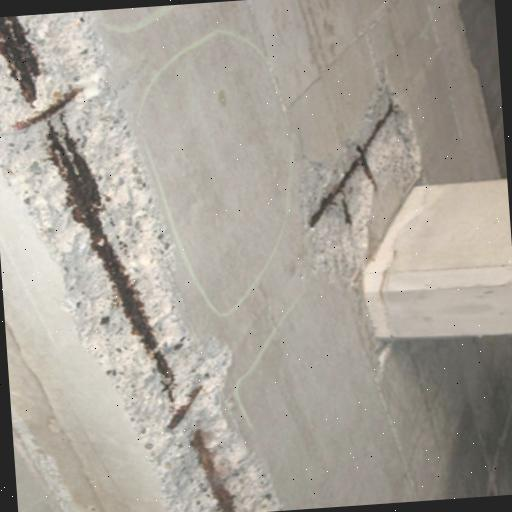spalling: (0, 12, 280, 512), (303, 71, 425, 279)
